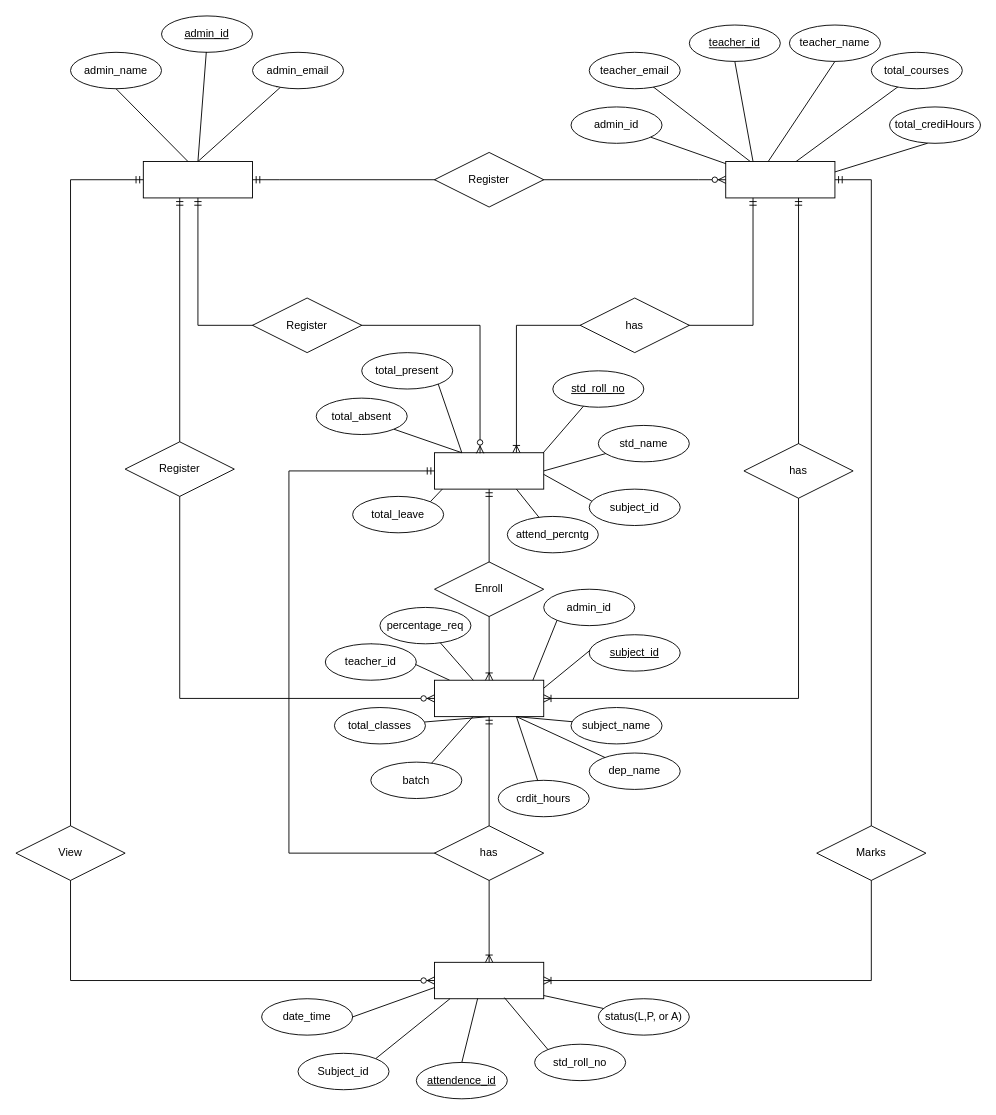
Some shapes in this 996 by 1115 pixel diagram are drawn without their labels. Each missing label, with the centre of its shape:
Admin: (x=197, y=179)
Attendence: (x=489, y=980)
Student: (x=489, y=470)
Subject: (x=489, y=698)
Teacher: (x=780, y=179)
